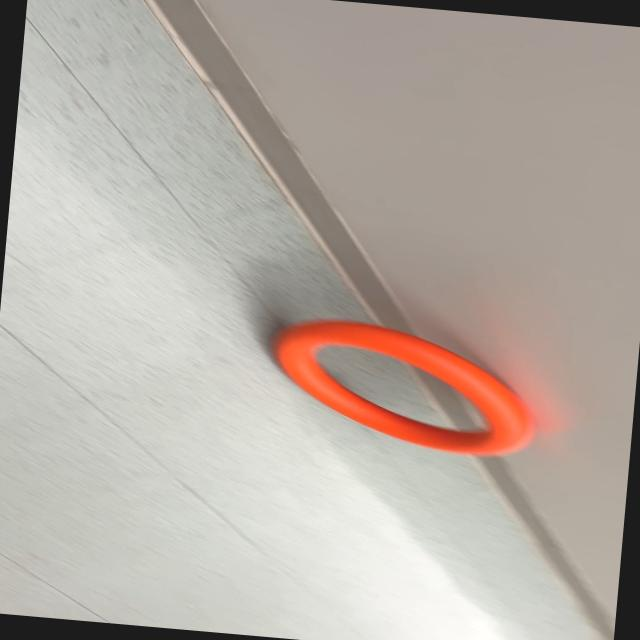note: (260, 312, 546, 462)
